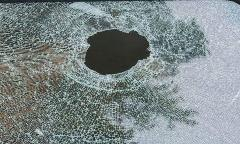glass: (0, 2, 240, 144)
